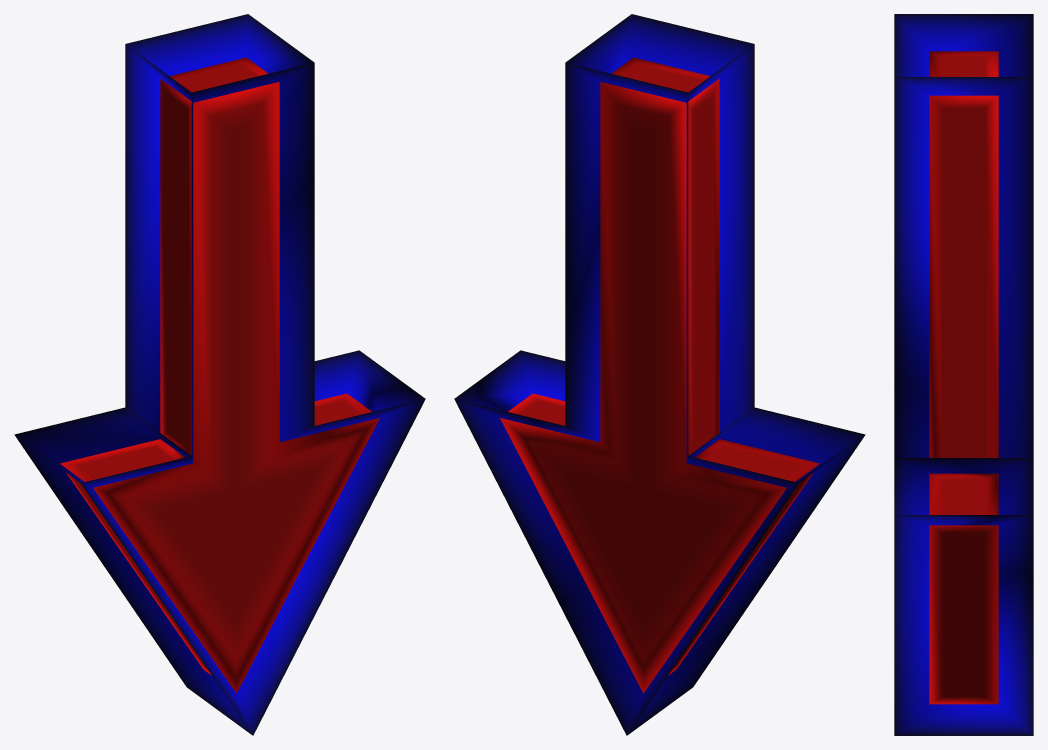
File: Marker.fbx
3 views of the same model, side by side, from view 1: azimuth 30°, elevation 25°; view 2: azimuth 150°, elevation 25°; view 3: azimuth 270°, elevation 25° (orthographic). The views are drawn at different scales.
Parts seen in each view (by area): view 1: Маркер; view 2: Маркер; view 3: Маркер.
Boxes of the visible parts, x1,y1,x2,y2 form: Маркер: (14,14,425,735); Маркер: (454,14,865,735); Маркер: (894,14,1033,735).
Bounding box in the file's own units: 120 × 219 × 40.
